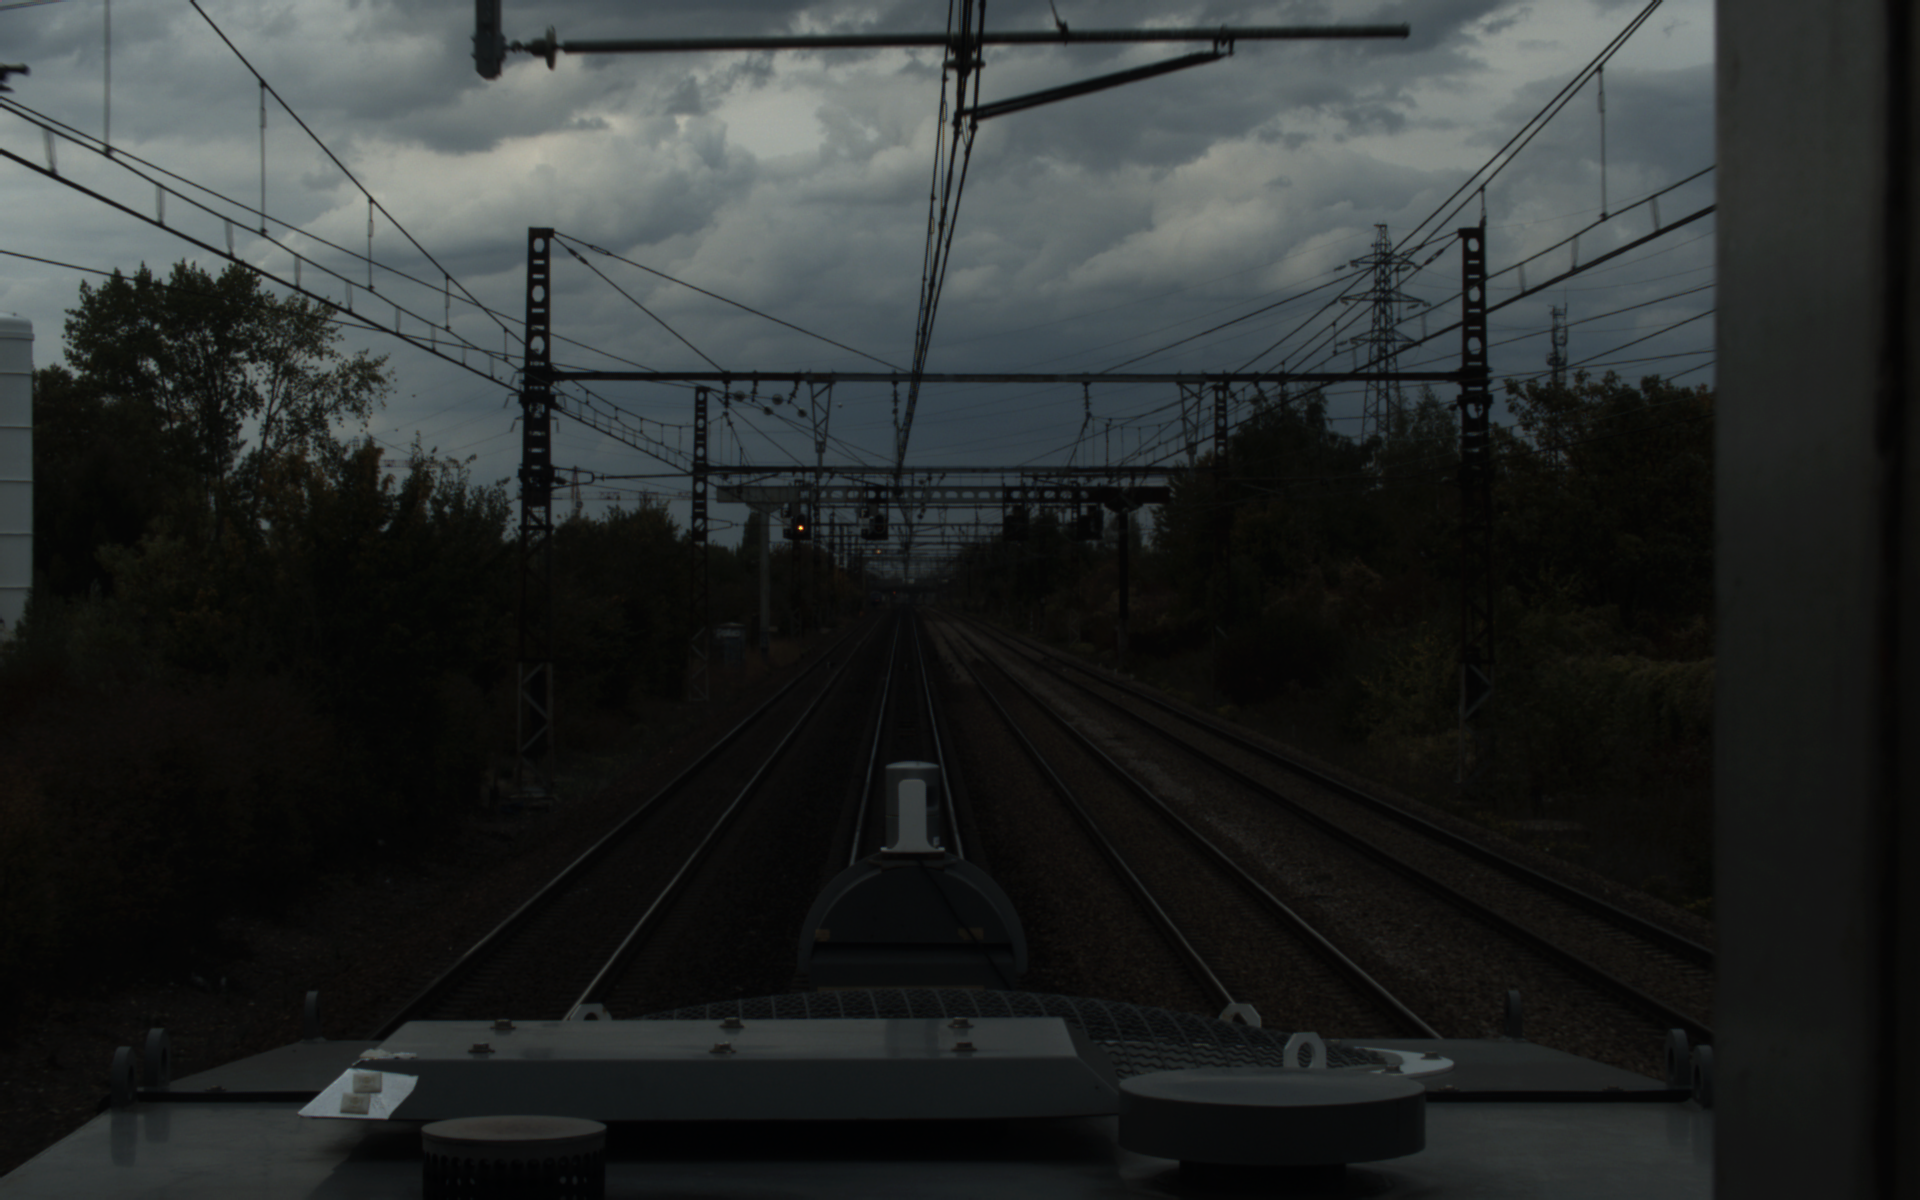Blinking: (872, 512, 887, 535)
Fixed: (792, 512, 809, 534)
